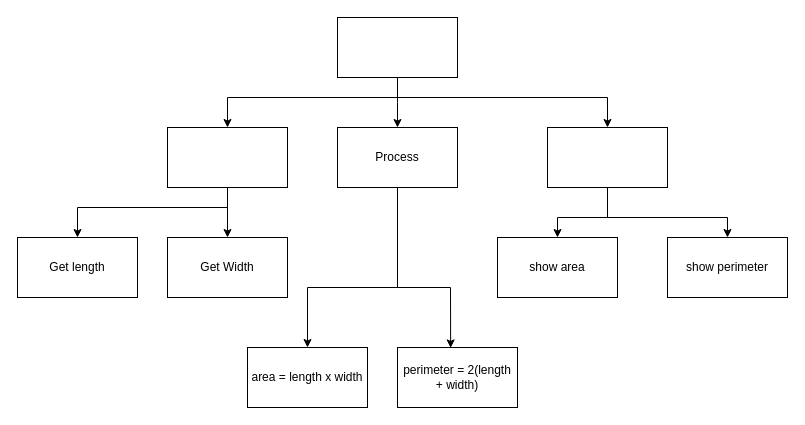
This 805x425 diagram has some shape labels left out. Here are the shapes that lost their labels. From the top down, the centre of each, then its label:
point 397,47: Area and perimeter of rectangle
point 227,157: Input
point 607,157: Output
